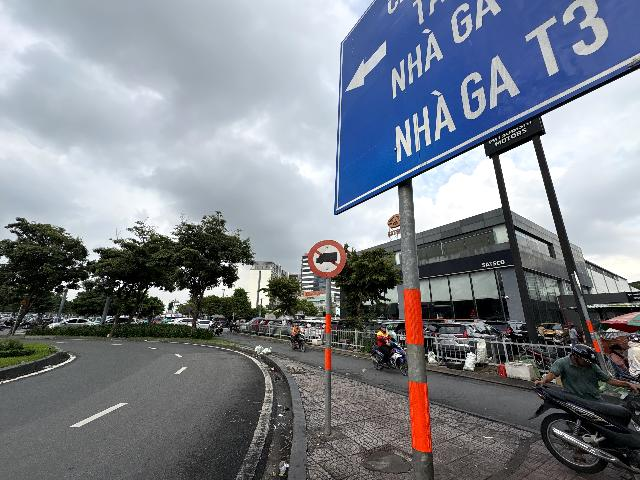cam-xe-tai: (308, 239, 346, 278)
